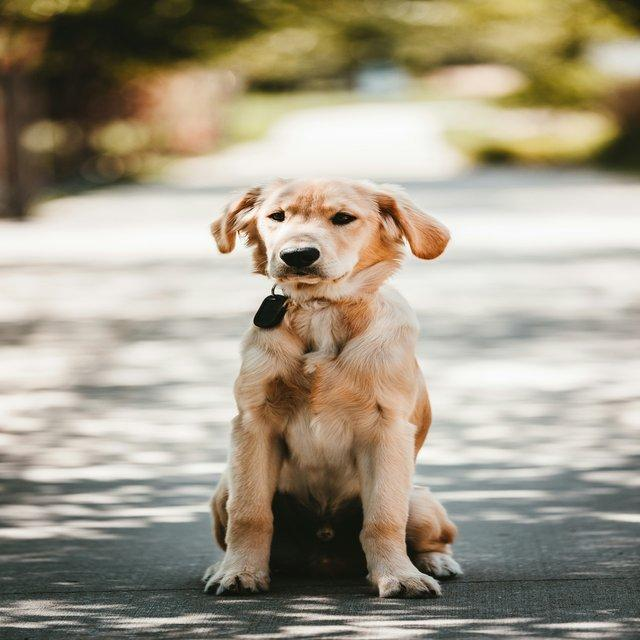retriever: (200, 175, 463, 598)
